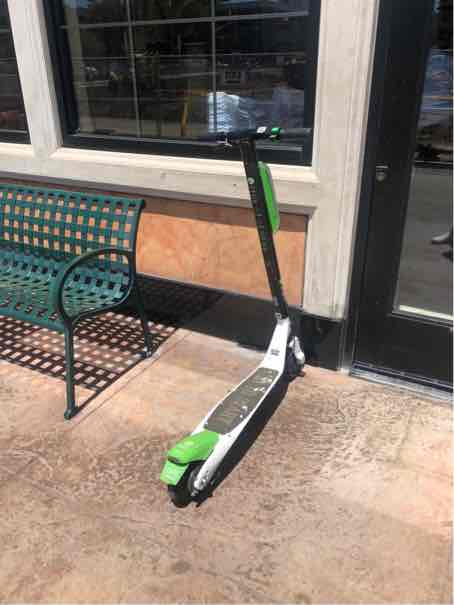scooter: (149, 126, 325, 516)
